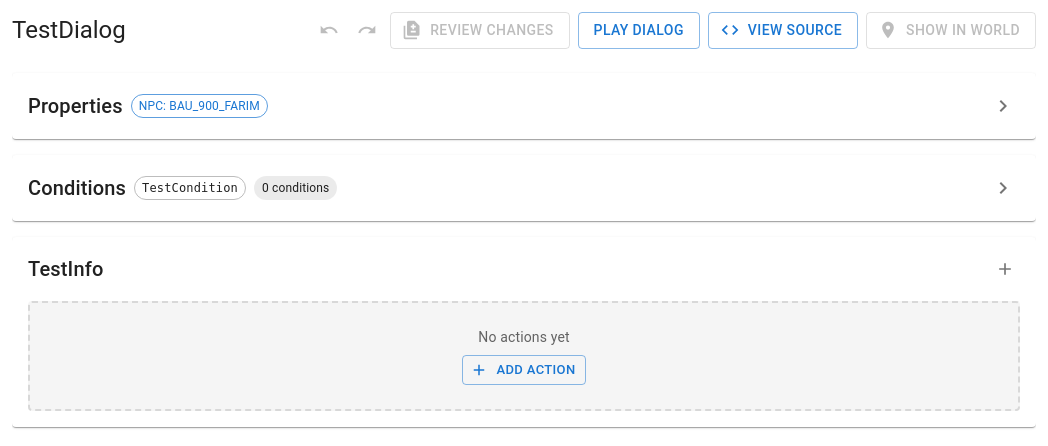
Test: the NPC/Dialog view jumps to the world › falls back to the plain "no world" reason when the function does not follow the convention
Step 1. Hover over the element showing "Show in World" → [951, 30], box [866, 12, 1036, 48]
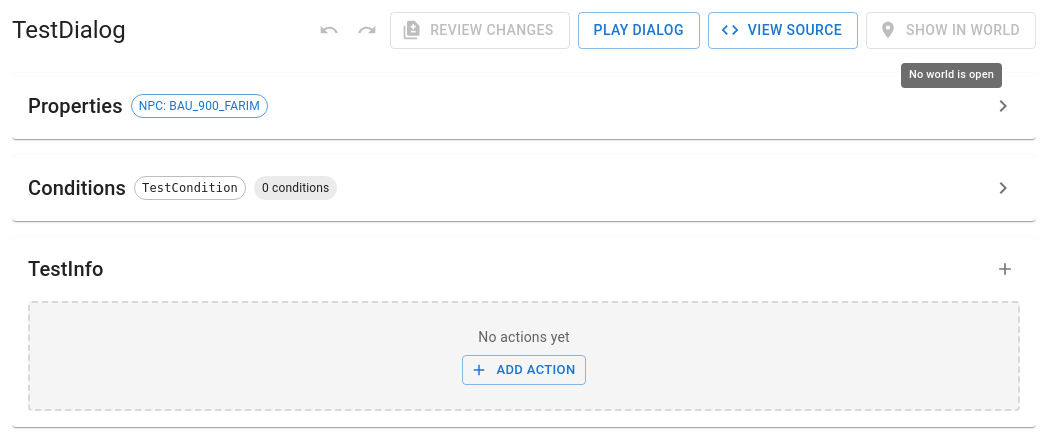
Now the text "No world is open" is shown, box [901, 63, 1002, 88]
